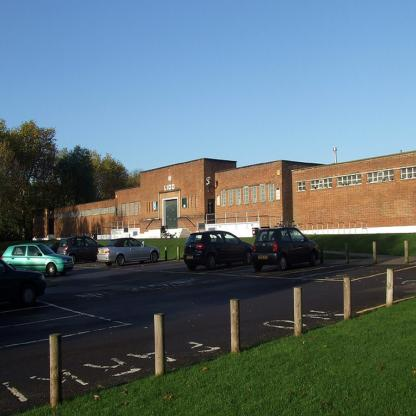Car: (250, 227, 323, 274), (183, 229, 255, 272), (3, 244, 76, 277), (1, 258, 46, 304), (97, 237, 162, 267), (56, 235, 106, 261), (49, 239, 61, 252)
